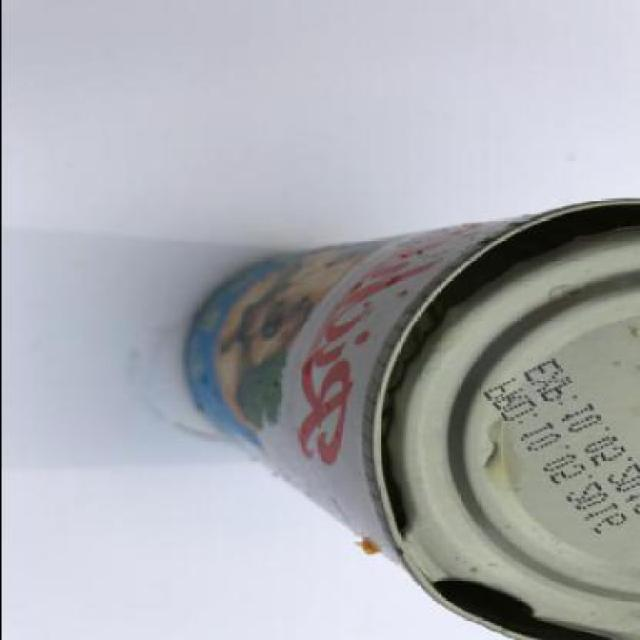METAL: (182, 198, 638, 640)
